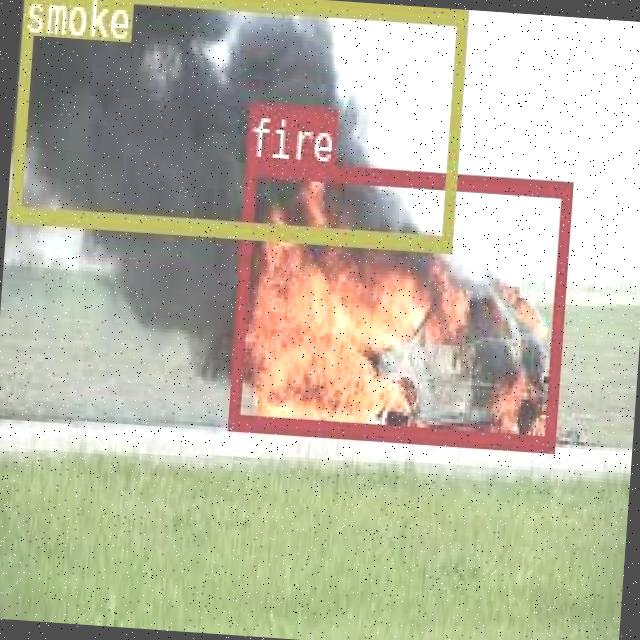fire: (226, 158, 570, 450)
smoke: (6, 0, 464, 249)
